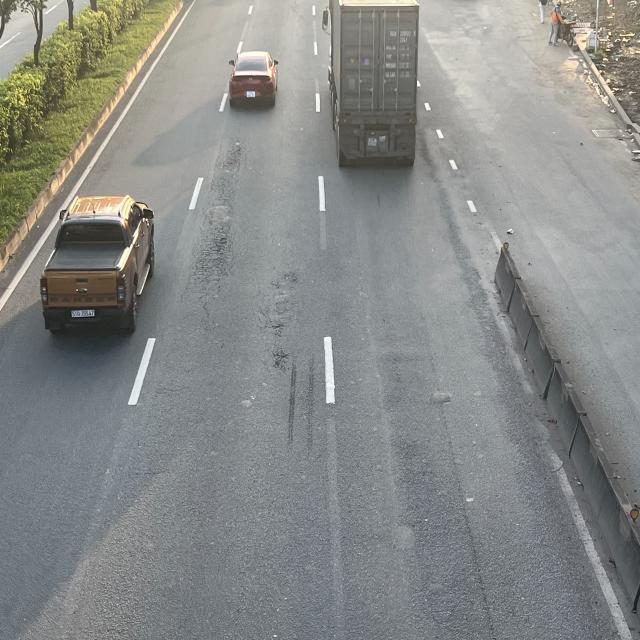car: (38, 195, 155, 337), (231, 51, 282, 110)
container: (322, 1, 418, 172)
